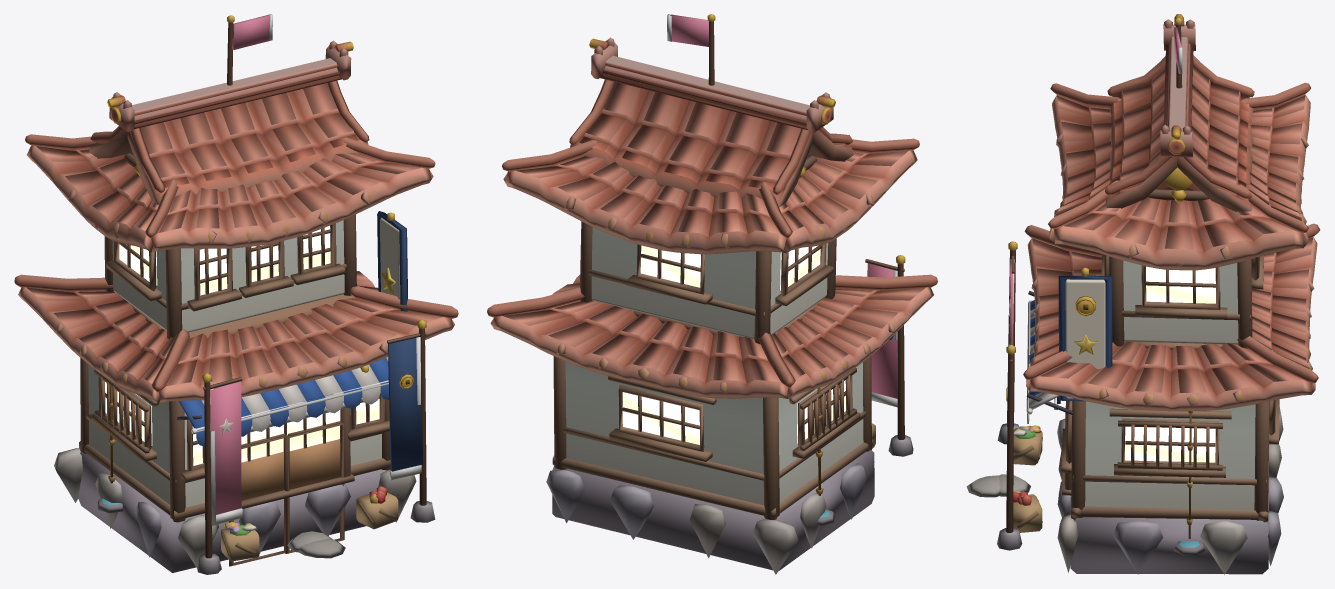
The model's file is shop-3-v3.glb.
The picture shows the model from 3 angles, left to right: view 1: azimuth 30°, elevation 25°; view 2: azimuth 150°, elevation 25°; view 3: azimuth 270°, elevation 25°; orthographic projection.
Parts seen in each view (by area): view 1: shop, window_glow; view 2: shop, window_glow; view 3: shop, window_glow.
Boxes of the visible parts, box(x1,y1,x2,y2) form: shop: box(14, 14, 458, 574); window_glow: box(105, 225, 379, 465); shop: box(487, 14, 937, 574); window_glow: box(622, 245, 845, 444); shop: box(966, 14, 1320, 574); window_glow: box(1125, 266, 1215, 462).
Size of the model in its own units: 3.58 by 5.57 by 3.54.
